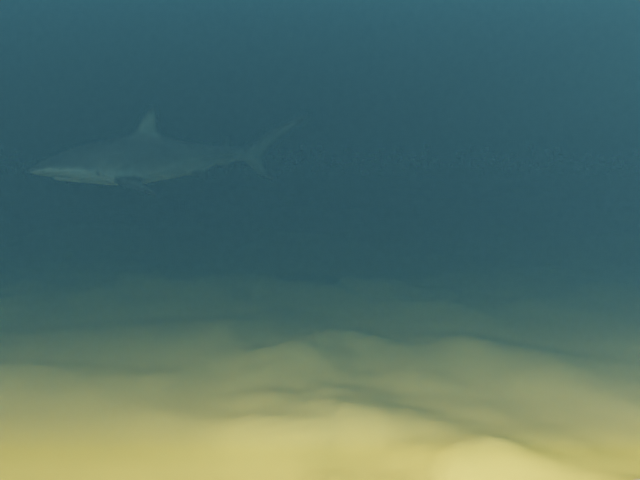Carribean Shark.001: (28, 106, 307, 195)
